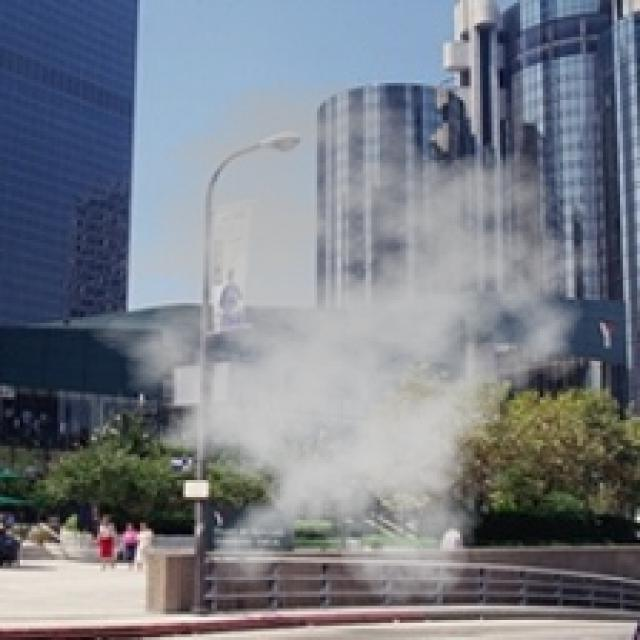smoke: (66, 77, 611, 609)
